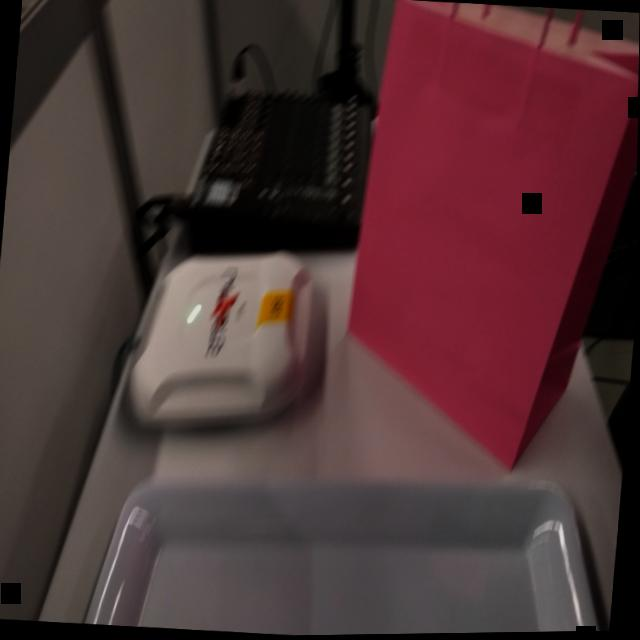tray: (77, 435, 624, 639)
